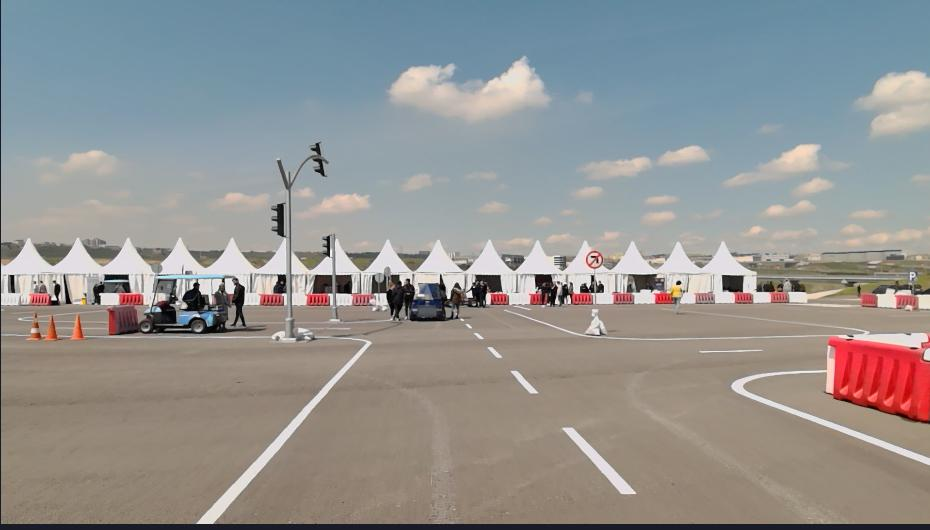nesne: (195, 296, 929, 523), (459, 298, 928, 524), (195, 309, 665, 525), (192, 330, 374, 524), (732, 365, 929, 465), (504, 308, 832, 340), (821, 340, 930, 424), (139, 274, 229, 333), (562, 423, 636, 494), (409, 281, 449, 321), (567, 290, 674, 304), (856, 290, 927, 310), (678, 291, 808, 301), (851, 334, 927, 351), (90, 333, 271, 338), (108, 305, 138, 334), (229, 275, 246, 326), (398, 274, 415, 321), (464, 278, 488, 308), (509, 368, 539, 392), (183, 281, 208, 308), (584, 304, 608, 332), (212, 282, 232, 314), (385, 278, 401, 318), (0, 291, 32, 306), (448, 282, 461, 318), (702, 345, 757, 353), (68, 310, 84, 337), (44, 312, 60, 338), (672, 279, 684, 313), (28, 308, 42, 337), (90, 279, 105, 303), (556, 278, 569, 305), (874, 293, 896, 308), (49, 278, 61, 305), (895, 295, 918, 309), (484, 342, 502, 359), (770, 288, 789, 303), (613, 290, 634, 303), (751, 291, 772, 304), (587, 250, 603, 267), (508, 292, 530, 304), (98, 293, 118, 306), (591, 292, 614, 303), (571, 292, 592, 304), (260, 293, 282, 304), (351, 292, 371, 304), (28, 293, 49, 304), (308, 294, 329, 305), (538, 281, 548, 304), (118, 293, 140, 303), (714, 292, 734, 303), (634, 292, 653, 303), (860, 294, 875, 307), (550, 278, 557, 304), (653, 292, 671, 302), (335, 293, 351, 304), (243, 293, 260, 303), (290, 293, 307, 303), (790, 292, 807, 302), (680, 291, 695, 302), (489, 293, 507, 302), (917, 294, 929, 307), (734, 292, 750, 301), (697, 294, 713, 302), (29, 279, 38, 292), (528, 293, 538, 303), (38, 277, 45, 291)
